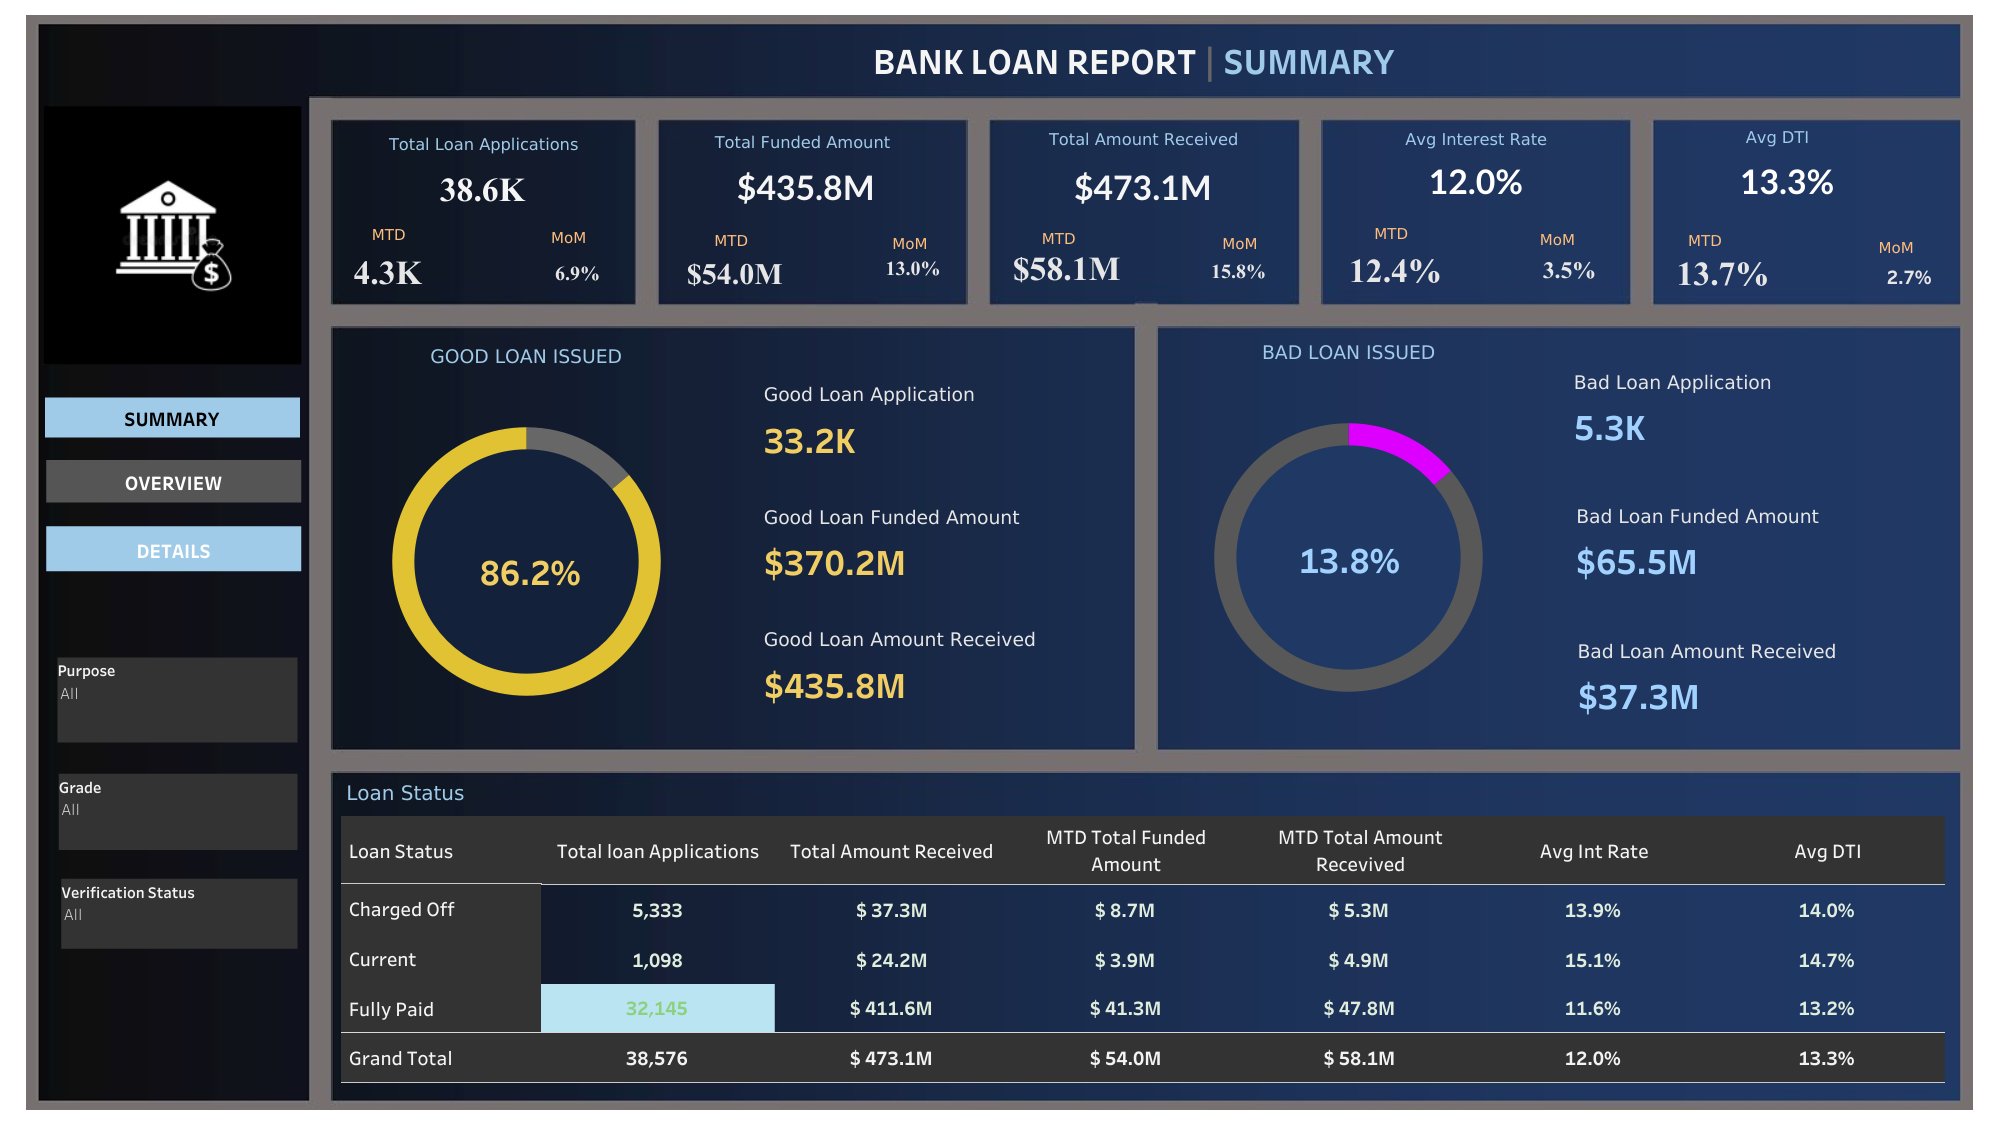

The page's visual inventory and layout, read from the dashboard file:
{"tool":"tableau","page":{"name":"SUMMARY","canvas":[1600,900],"ordinal":2},"visuals":[{"type":"image","param":"Image/Tableau Background 1.jpg","box":[8,8,1584,884]},{"type":"text","box":[250,25,1314,46]},{"type":"image","param":"Image/Bank.jpg","box":[45,76,193,184]},{"type":"worksheet","title":"Avg DTI","mark":"Automatic","box":[1372,95,150,75]},{"type":"worksheet","title":"Total Amount Received ","mark":"Automatic","box":[795,97,240,73]},{"type":"worksheet","title":"Avg Interest Rate","mark":"Automatic","box":[1088,97,186,64]},{"type":"worksheet","title":"Total Funded Amount","mark":"Automatic","box":[532,99,220,70]},{"type":"worksheet","title":"Total Loan Applications","mark":"Automatic","box":[273,101,228,69]},{"type":"text","box":[282,175,58,24]},{"type":"text","box":[1084,176,58,20]},{"type":"text","box":[426,179,58,20]},{"type":"text","box":[556,180,58,24]},{"type":"text","box":[818,180,58,20]},{"type":"text","box":[1217,181,58,20]},{"type":"text","box":[1335,182,58,20]},{"type":"text","box":[699,184,58,20]},{"type":"text","box":[963,184,58,20]},{"type":"text","box":[1488,187,58,20]},{"type":"worksheet","title":"MTD Total Amount Received","mark":"Automatic","box":[795,191,118,48]},{"type":"worksheet","title":"MoM Avg Int Rate","mark":"Automatic","box":[1207,191,74,51]},{"type":"worksheet","title":"MoM Total Funded Amount","mark":"Automatic","box":[698,192,64,45]},{"type":"worksheet","title":"MoM Total Amount Recevied","mark":"Automatic","box":[953,195,77,44]},{"type":"worksheet","title":"MTD Total Funded Amount ","mark":"Automatic","box":[530,197,116,44]},{"type":"worksheet","title":"MTD Avg DTI","mark":"Automatic","box":[1327,197,103,43]},{"type":"worksheet","title":"MTD Total Loan Application","mark":"Automatic","box":[273,198,76,40]},{"type":"worksheet","title":"MTD Avg INT Rate","mark":"Automatic","box":[1063,198,107,36]},{"type":"worksheet","title":"MoM Loan Applications","mark":"Automatic","box":[436,200,53,37]},{"type":"worksheet","title":"MoM Avg Dti","mark":"Automatic","box":[1490,203,74,35]},{"type":"worksheet","title":"Bad Loan Issued","mark":"Pie","rows":["Calculation_294141372556591129","Calculation_294141372556591129"],"box":[929,267,300,325]},{"type":"worksheet","title":" Good Loan Issued","mark":"Pie","rows":["Calculation_294141372556591129","Calculation_294141372556591129"],"box":[271,270,300,325]},{"type":"worksheet","title":"Bad Loan Application","mark":"Automatic","box":[1251,287,300,75]},{"type":"worksheet","title":"Good Loan Application","mark":"Automatic","box":[603,297,300,75]},{"type":"dashboard-object","box":[36,318,204,32]},{"type":"dashboard-object","box":[37,368,204,34]},{"type":"worksheet","title":"Bad Loan Funded Amount","mark":"Automatic","box":[1253,394,300,75]},{"type":"worksheet","title":"Good Loan Funded Amount","mark":"Automatic","box":[603,395,300,75]},{"type":"worksheet","title":"GOOD LOAN APPLICATION %","mark":"Automatic","box":[365,405,119,104]},{"type":"worksheet","title":"Bad Loan %","mark":"Automatic","box":[1015,418,129,59]},{"type":"dashboard-object","box":[37,421,204,36]},{"type":"worksheet","title":"Good Loan Amount Received","mark":"Automatic","box":[603,493,300,75]},{"type":"worksheet","title":"Bad Loan Amount Received ","mark":"Automatic","box":[1254,502,300,75]},{"type":"filter","title":" Good Loan Issued","param":"[federated.1i4h2fl16d7b1k16avpla0zm1fvw].[none:purpose:nk]","box":[46,526,192,68]},{"type":"filter","title":" Good Loan Issued","param":"[federated.1i4h2fl16d7b1k16avpla0zm1fvw].[none:grade:nk]","box":[47,619,191,61]},{"type":"worksheet","title":"Loan Status ","mark":"Automatic","rows":["loan_status"],"box":[273,619,1284,248]},{"type":"filter","title":" Good Loan Issued","param":"[federated.1i4h2fl16d7b1k16avpla0zm1fvw].[none:verification_status:nk]","box":[49,703,189,56]}]}

Visuals, with their boxes in screenshot pixels (x1, y1, x2, y2), scaled from the page's 1600x900 canvas onto the 1999x1124 screenshot:
image: pyautogui.locateOnScreen(10, 10, 1989, 1114)
text: pyautogui.locateOnScreen(312, 31, 1954, 89)
image: pyautogui.locateOnScreen(56, 95, 297, 325)
"Avg DTI" worksheet: pyautogui.locateOnScreen(1714, 119, 1902, 212)
"Total Amount Received " worksheet: pyautogui.locateOnScreen(993, 121, 1293, 212)
"Avg Interest Rate" worksheet: pyautogui.locateOnScreen(1359, 121, 1592, 201)
"Total Funded Amount" worksheet: pyautogui.locateOnScreen(665, 124, 940, 211)
"Total Loan Applications" worksheet: pyautogui.locateOnScreen(341, 126, 626, 212)
text: pyautogui.locateOnScreen(352, 219, 425, 249)
text: pyautogui.locateOnScreen(1354, 220, 1427, 245)
text: pyautogui.locateOnScreen(532, 224, 605, 249)
text: pyautogui.locateOnScreen(695, 225, 767, 255)
text: pyautogui.locateOnScreen(1022, 225, 1094, 250)
text: pyautogui.locateOnScreen(1520, 226, 1593, 251)
text: pyautogui.locateOnScreen(1668, 227, 1740, 252)
text: pyautogui.locateOnScreen(873, 230, 946, 255)
text: pyautogui.locateOnScreen(1203, 230, 1276, 255)
text: pyautogui.locateOnScreen(1859, 234, 1932, 259)
"MTD Total Amount Received" worksheet: pyautogui.locateOnScreen(993, 239, 1141, 298)
"MoM Avg Int Rate" worksheet: pyautogui.locateOnScreen(1508, 239, 1600, 302)
"MoM Total Funded Amount" worksheet: pyautogui.locateOnScreen(872, 240, 952, 296)
"MoM Total Amount Recevied" worksheet: pyautogui.locateOnScreen(1191, 244, 1287, 298)
"MTD Total Funded Amount " worksheet: pyautogui.locateOnScreen(662, 246, 807, 301)
"MTD Avg DTI" worksheet: pyautogui.locateOnScreen(1658, 246, 1787, 300)
"MTD Total Loan Application" worksheet: pyautogui.locateOnScreen(341, 247, 436, 297)
"MTD Avg INT Rate" worksheet: pyautogui.locateOnScreen(1328, 247, 1462, 292)
"MoM Loan Applications" worksheet: pyautogui.locateOnScreen(545, 250, 611, 296)
"MoM Avg Dti" worksheet: pyautogui.locateOnScreen(1862, 254, 1954, 297)
"Bad Loan Issued" worksheet (Pie marks): pyautogui.locateOnScreen(1161, 333, 1535, 739)
" Good Loan Issued" worksheet (Pie marks): pyautogui.locateOnScreen(339, 337, 713, 743)
"Bad Loan Application" worksheet: pyautogui.locateOnScreen(1563, 358, 1938, 452)
"Good Loan Application" worksheet: pyautogui.locateOnScreen(753, 371, 1128, 465)
dashboard-object: pyautogui.locateOnScreen(45, 397, 300, 437)
dashboard-object: pyautogui.locateOnScreen(46, 460, 301, 502)
"Bad Loan Funded Amount" worksheet: pyautogui.locateOnScreen(1565, 492, 1940, 586)
"Good Loan Funded Amount" worksheet: pyautogui.locateOnScreen(753, 493, 1128, 587)
"GOOD LOAN APPLICATION %" worksheet: pyautogui.locateOnScreen(456, 506, 605, 636)
"Bad Loan %" worksheet: pyautogui.locateOnScreen(1268, 522, 1429, 596)
dashboard-object: pyautogui.locateOnScreen(46, 526, 301, 571)
"Good Loan Amount Received" worksheet: pyautogui.locateOnScreen(753, 616, 1128, 709)
"Bad Loan Amount Received " worksheet: pyautogui.locateOnScreen(1567, 627, 1942, 721)
" Good Loan Issued" filter: pyautogui.locateOnScreen(57, 657, 297, 742)
" Good Loan Issued" filter: pyautogui.locateOnScreen(59, 773, 297, 849)
"Loan Status " worksheet: pyautogui.locateOnScreen(341, 773, 1945, 1083)
" Good Loan Issued" filter: pyautogui.locateOnScreen(61, 878, 297, 948)
